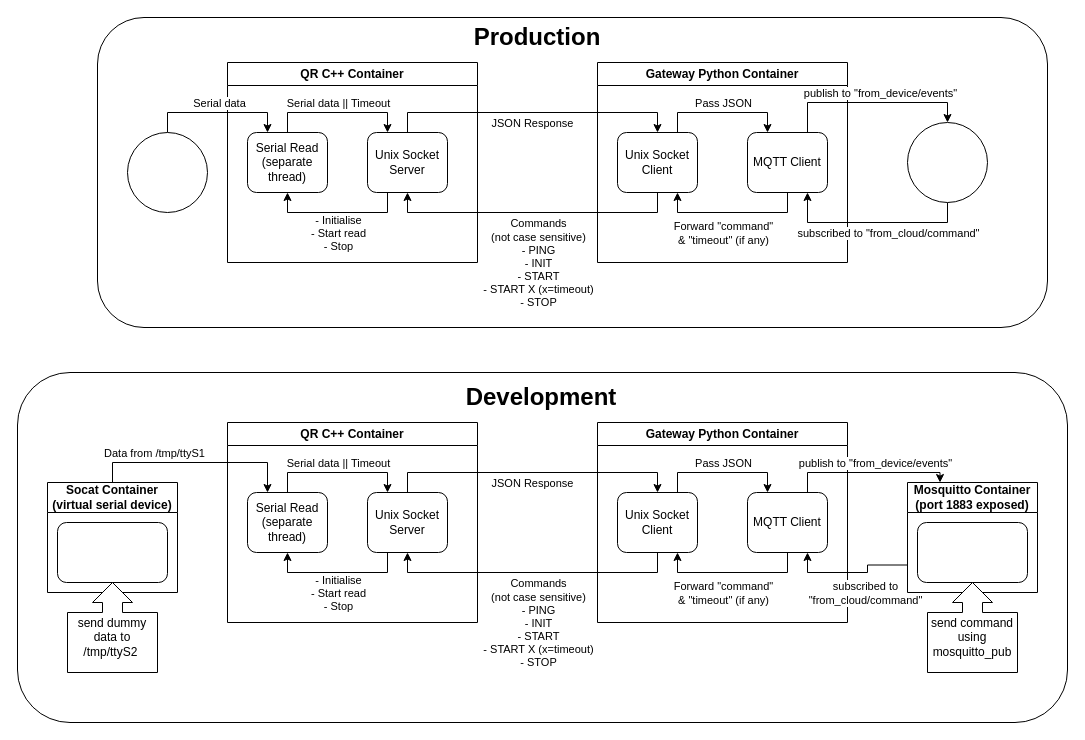
Some shapes in this 1085 by 740 pixel diagram are drawn without their labels. The shapes that lost their labels are listed below. From the top down, each one's centre as x and y in pixels, then its label:
At (x=167, y=172): "Real Serial Device".
At (x=947, y=162): "Remote MQTT server".
At (x=112, y=552): "Forward data from /tmp/ttyS2 to /tmp/ttyS1".
At (x=972, y=552): "local MQTT broker".
